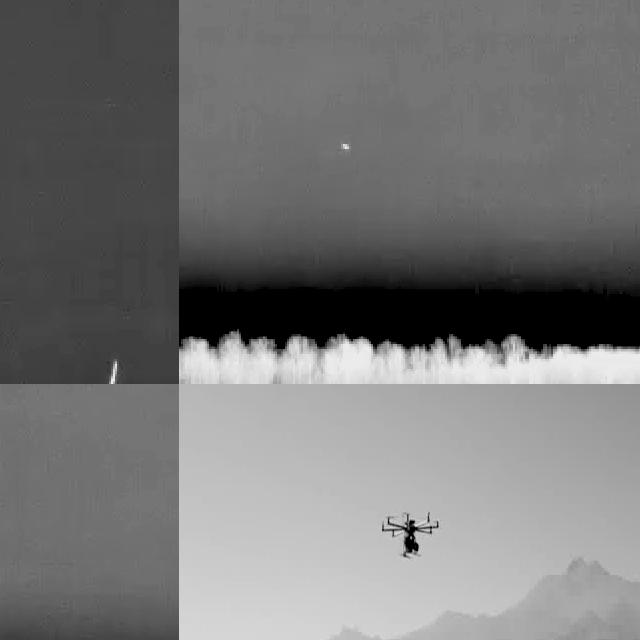1: (328, 135, 356, 163)
drone: (379, 509, 442, 558)
